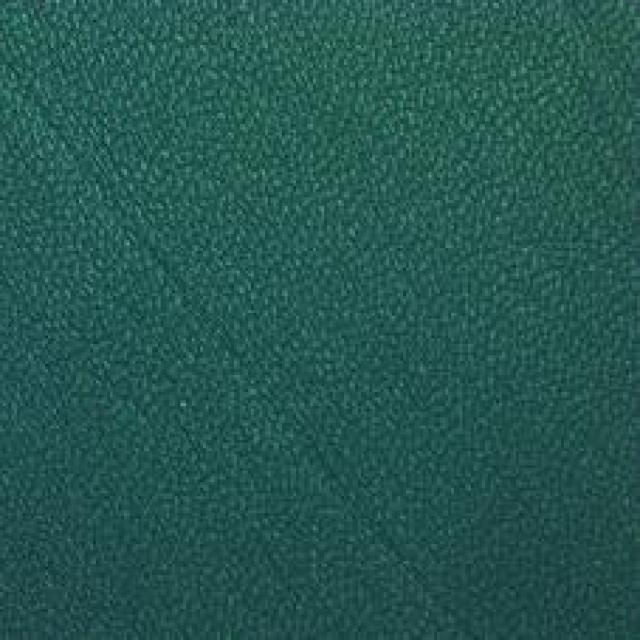Growth Marks: (30, 77, 212, 329), (240, 370, 412, 586)
